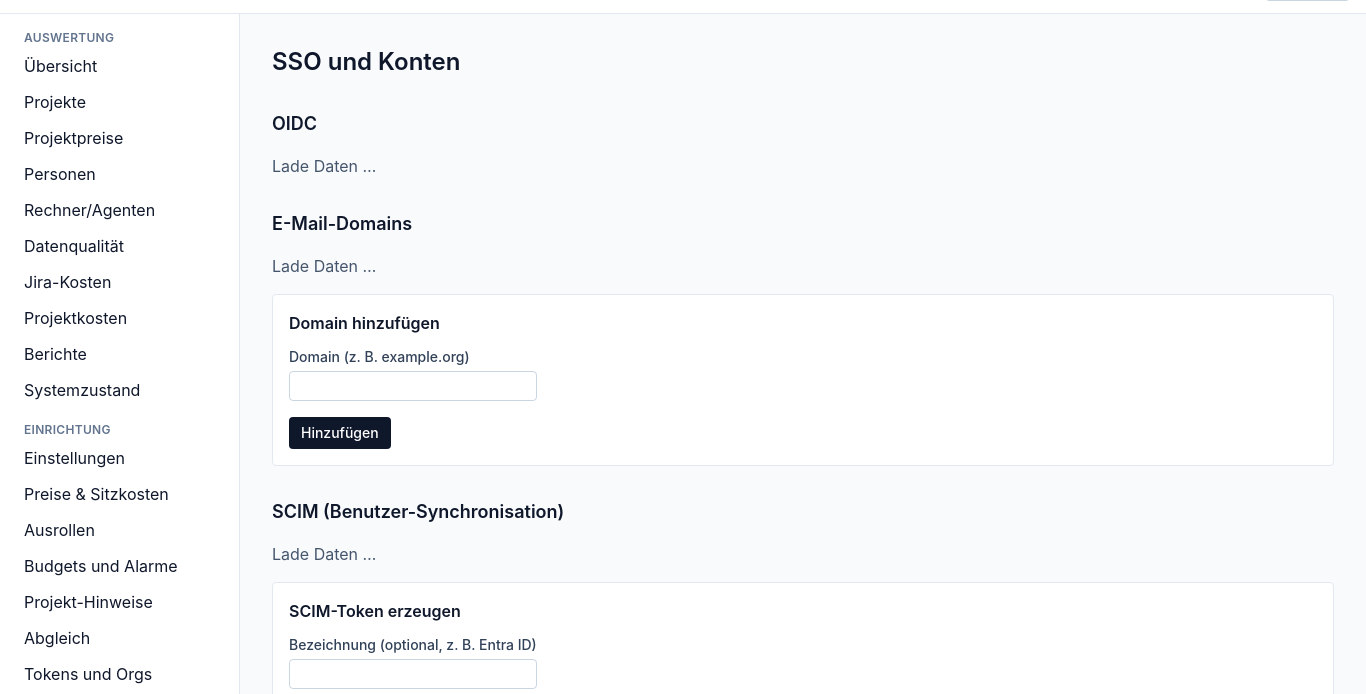
Test: SSO und Konten › Domain hinzufügen zeigt die TXT-Anleitung; 409 und 400 haben deutsche Texte
Type "fremd.example" into the field labelled "Domain (z. B. example.org)" at (413, 386), box [289,371,537,401]
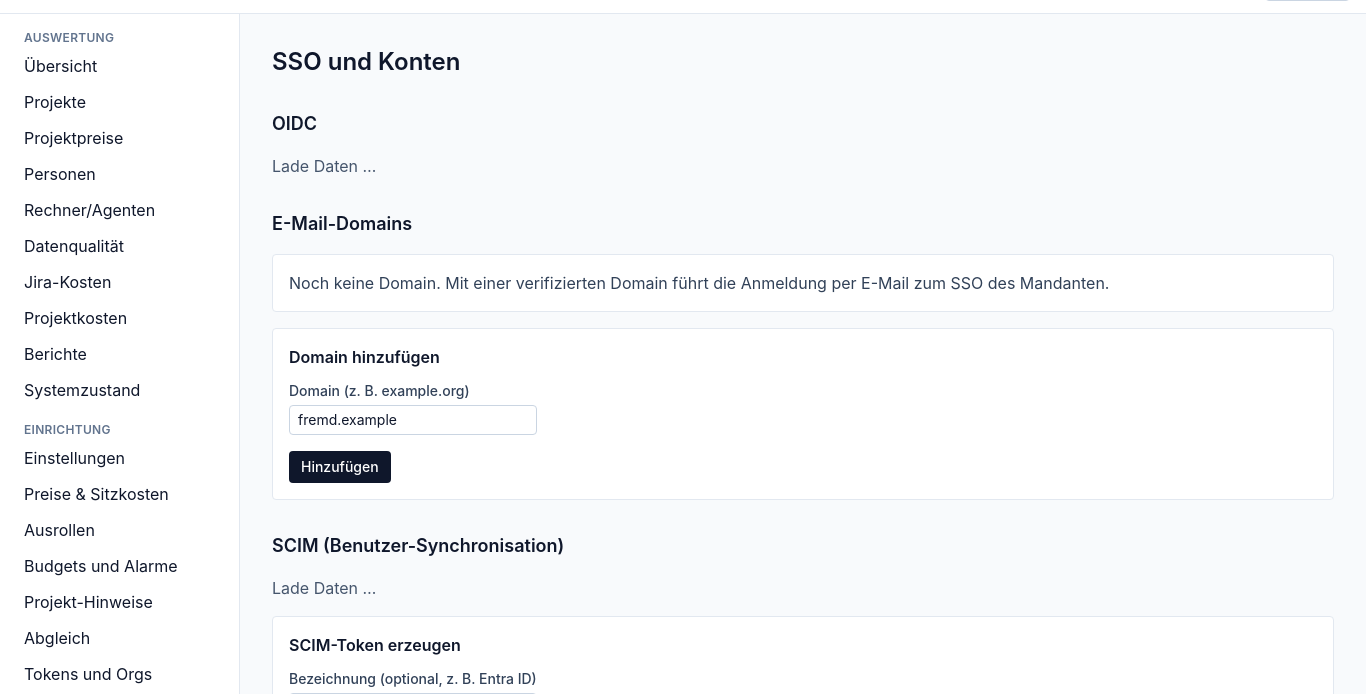
Click the button "Hinzufügen" at (340, 467), box [289,451,391,483]
(page scrolled)
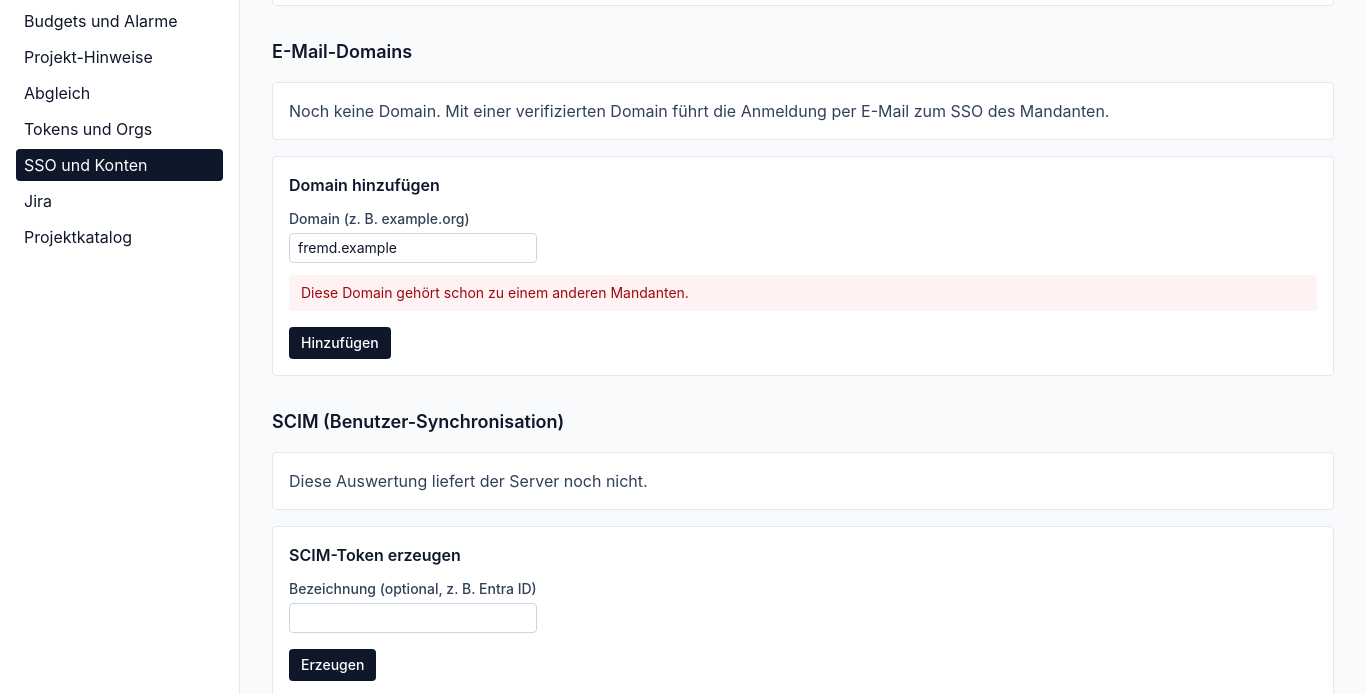
Result: the text "Diese Domain gehört schon zu einem anderen Mandanten." is shown at [289,275,1317,311]
Click the button "Hinzufügen" at (340, 343), box [289,327,391,359]
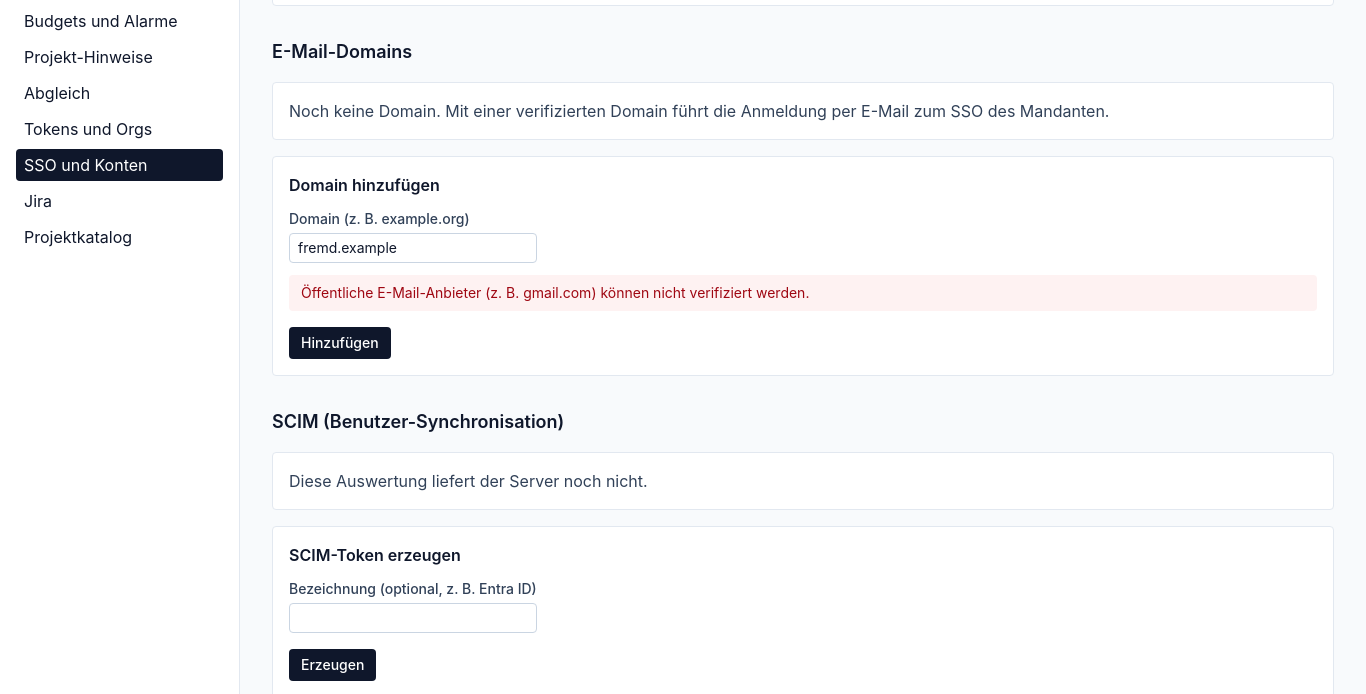
Result: the text "Öffentliche E-Mail-Anbieter (z. B. gmail.com) können nicht verifiziert werden." is shown at [289,275,1317,311]
Replace the text in the field labelled "Domain (z. B. example.org)" with "Example.org" at (413, 248), box [289,233,537,263]
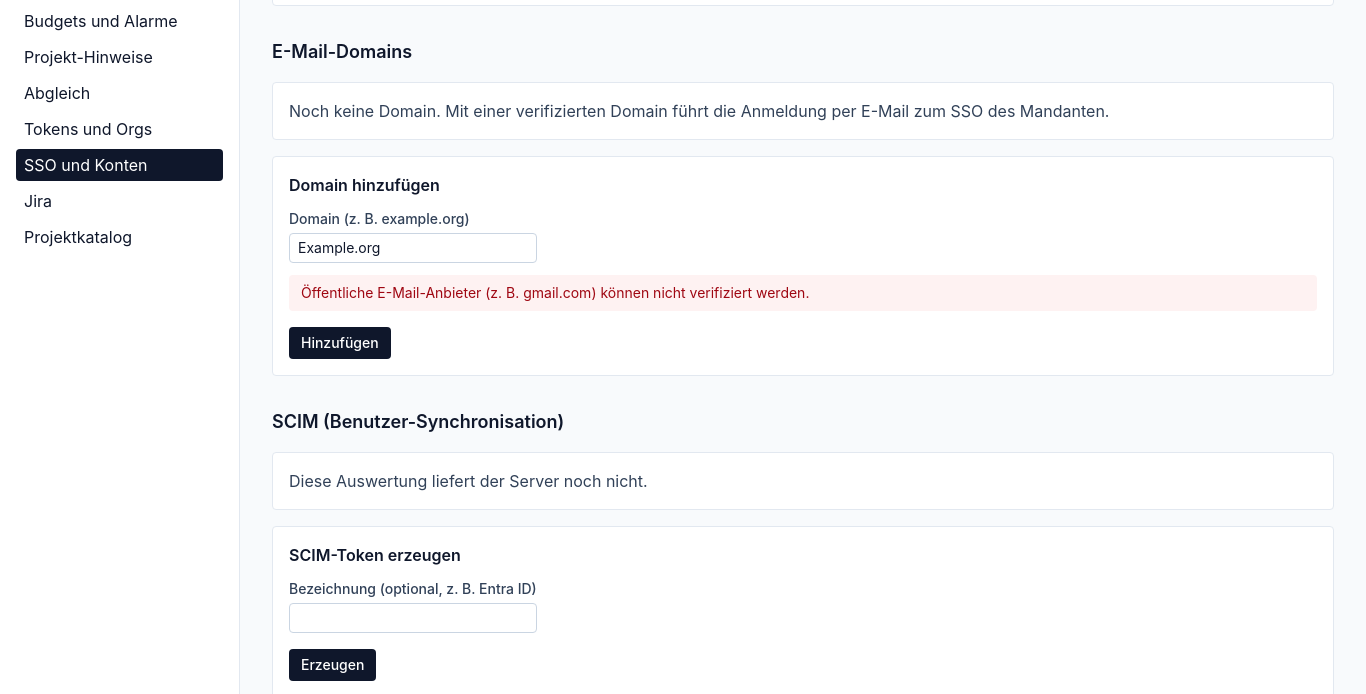
Click the button "Hinzufügen" at (340, 343), box [289,327,391,359]
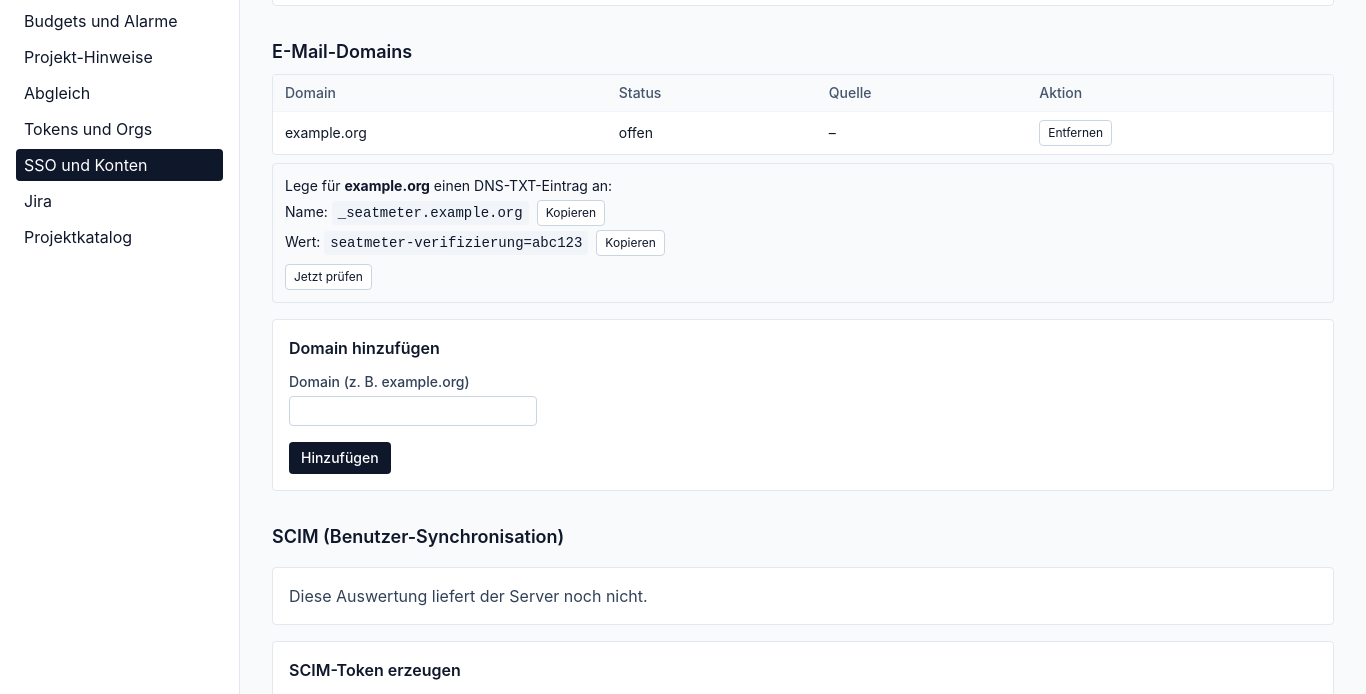
Result: the text "_seatmeter.example.org" is shown at [332,201,529,225]
Result: the text "seatmeter-verifizierung=abc123" is shown at [324,231,588,255]
